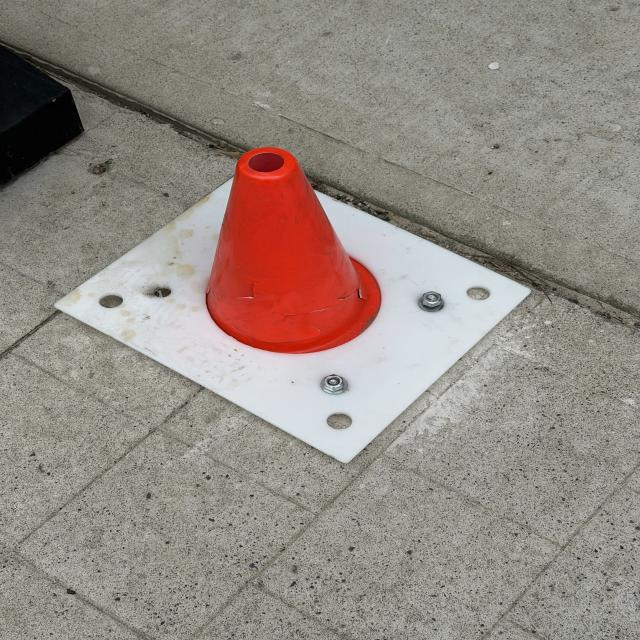Traffic Cone: (195, 150, 397, 354)
